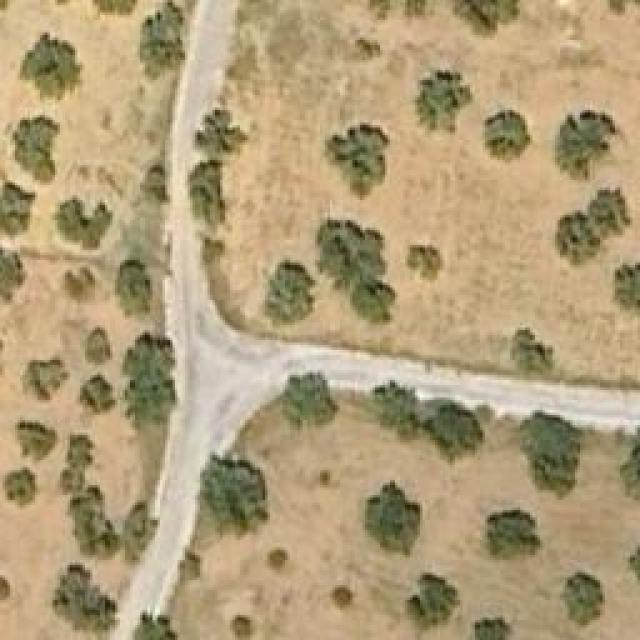Tree: (375, 380, 490, 463), (315, 220, 395, 323), (555, 185, 633, 268), (520, 413, 583, 498), (17, 30, 85, 103), (325, 122, 388, 200), (123, 333, 176, 423), (558, 110, 623, 180), (53, 562, 118, 630), (205, 460, 268, 530), (410, 70, 473, 138), (365, 480, 420, 555), (2, 115, 60, 183), (140, 0, 185, 78), (53, 195, 113, 250), (65, 490, 115, 555), (405, 572, 460, 630), (265, 263, 315, 326), (283, 375, 338, 430), (480, 110, 533, 165), (448, 0, 521, 38), (488, 508, 543, 558), (120, 503, 163, 566), (560, 573, 605, 628), (62, 428, 100, 488), (22, 358, 70, 403), (510, 328, 553, 378), (115, 260, 153, 315), (0, 183, 35, 236), (192, 165, 220, 225), (197, 110, 235, 153), (18, 420, 58, 460), (620, 428, 640, 503), (0, 245, 25, 303), (80, 373, 115, 413), (615, 263, 640, 316), (408, 245, 443, 280), (5, 467, 35, 505), (85, 327, 113, 365), (138, 615, 178, 640), (470, 615, 510, 640), (143, 165, 168, 203), (65, 268, 95, 298), (328, 588, 361, 611), (230, 615, 255, 640), (265, 548, 288, 573), (405, 0, 433, 18), (368, 0, 391, 20)
